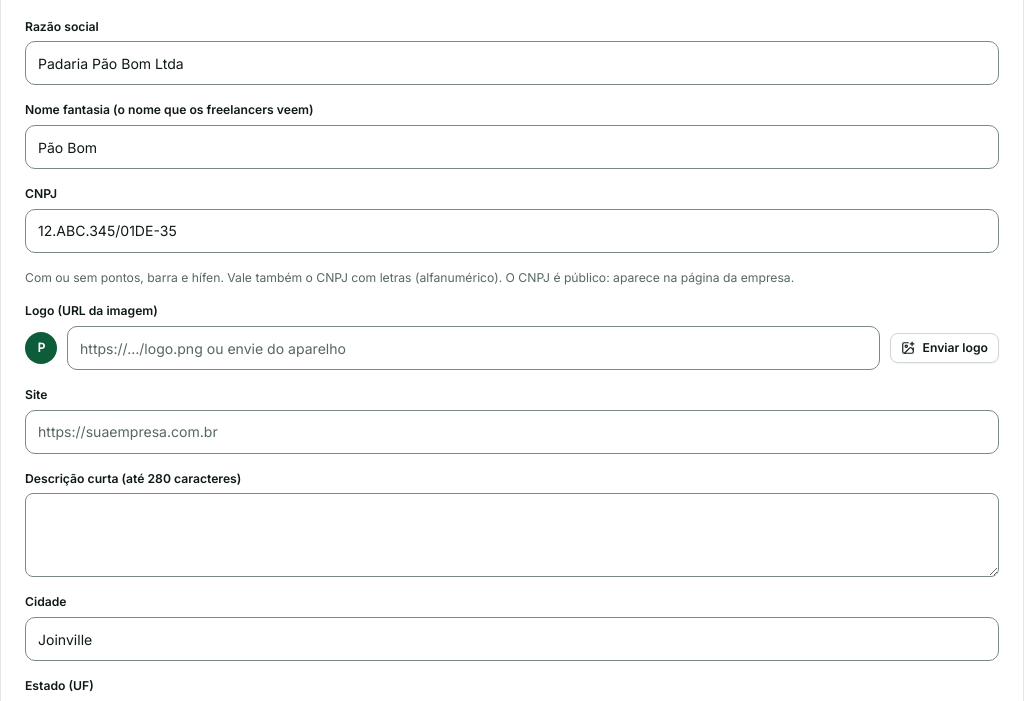
Test: EmpresaCard › salva tudo; vazio vira null e a UF vai em maiúsculas; o CNPJ volta com máscara
This screenshot has width=1024, height=701.
Type "https://paobom.com.br" into the field labelled "Site" at (512, 432), box 25,410 -> 999,454
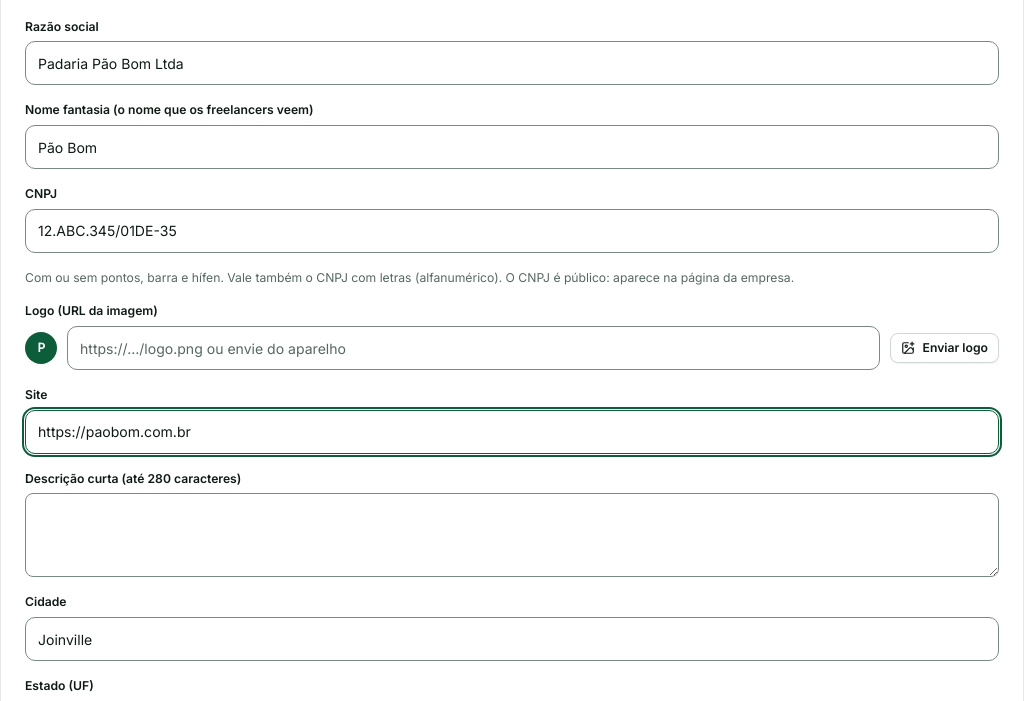
Type "  Pães naturais.  " into the text box labelled "Descrição curta (até 280 caracteres)" at (512, 535), box 25,493 -> 999,577
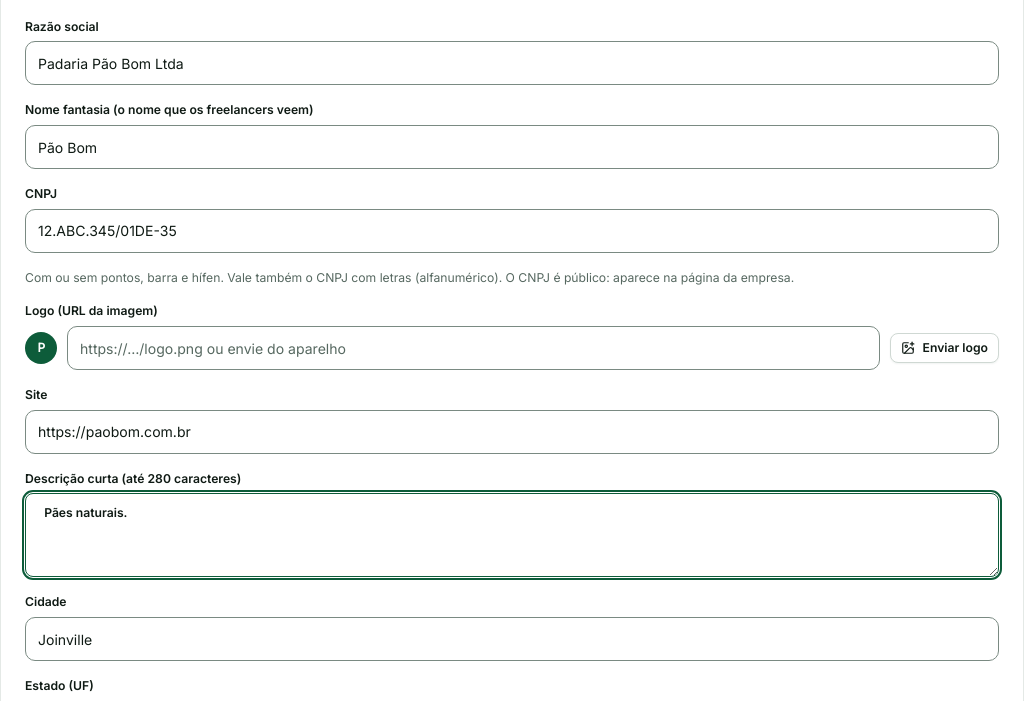
Clear the field labelled "Cidade" at (512, 639), box 25,617 -> 999,661
(page scrolled)
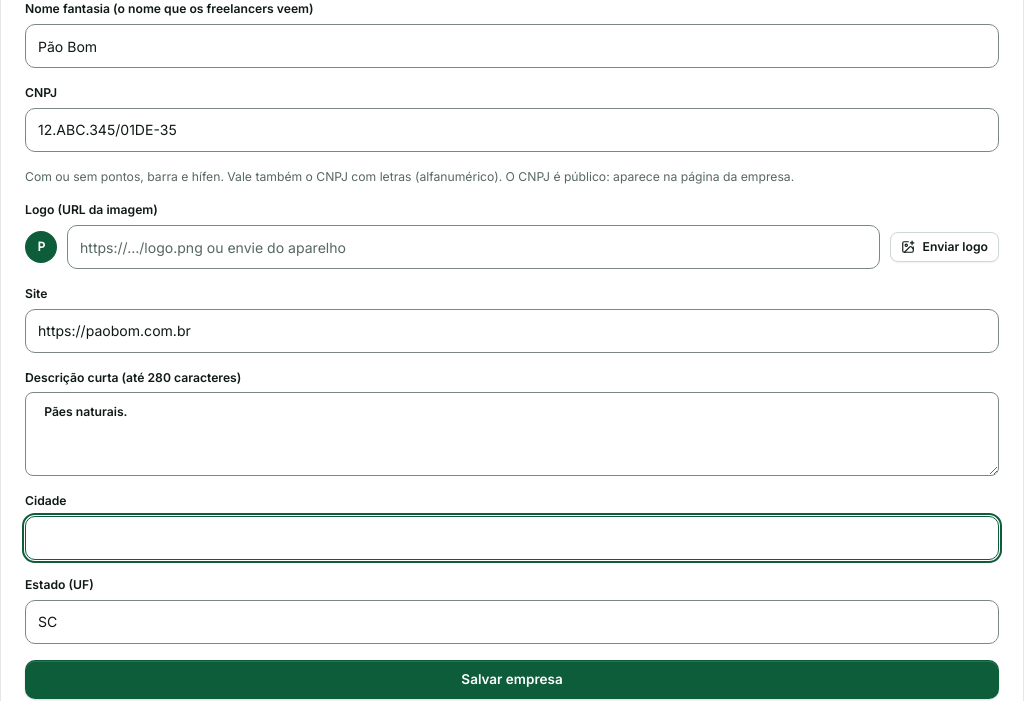
Type "sc" into the field labelled "Estado (UF)" at (512, 622), box 25,600 -> 999,644
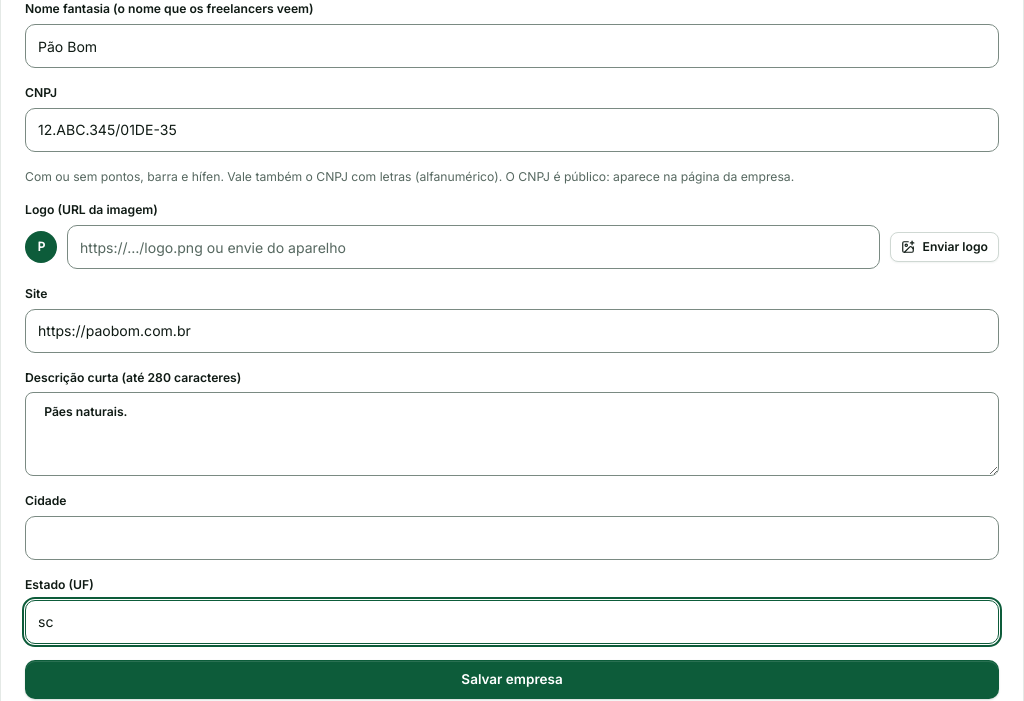
Click the button "Salvar empresa" at (512, 679), box 25,660 -> 999,699
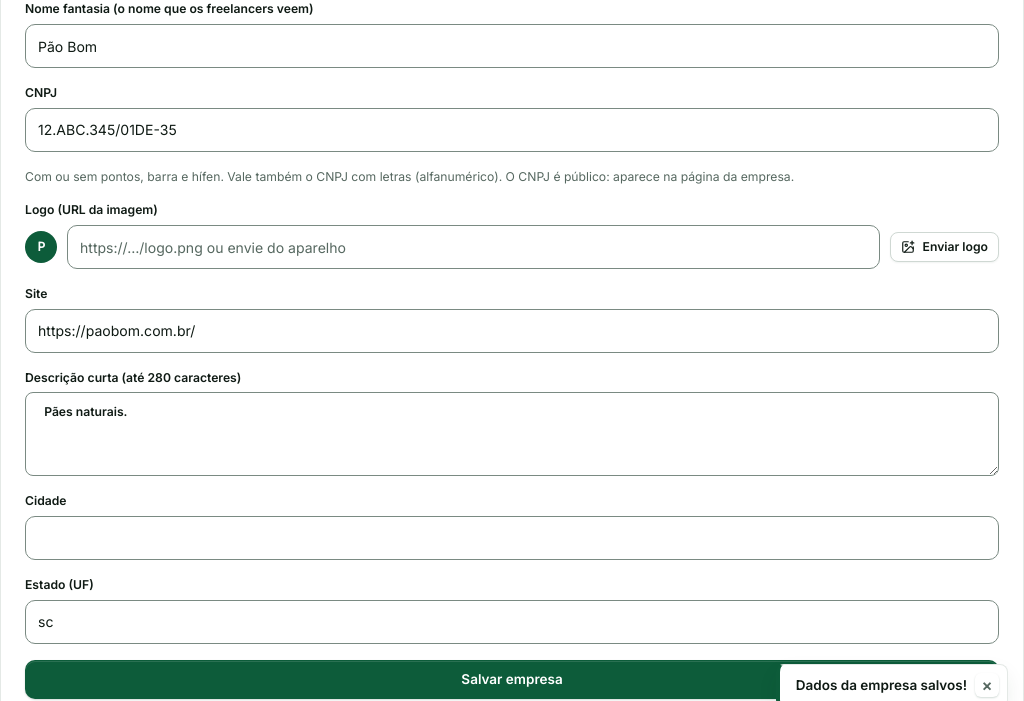
Expected: the field labelled "Site" holds "https://paobom.com.br/", 25,309 -> 999,353
Now the text "Dados da empresa salvos!" is shown, box 796,676 -> 967,696
